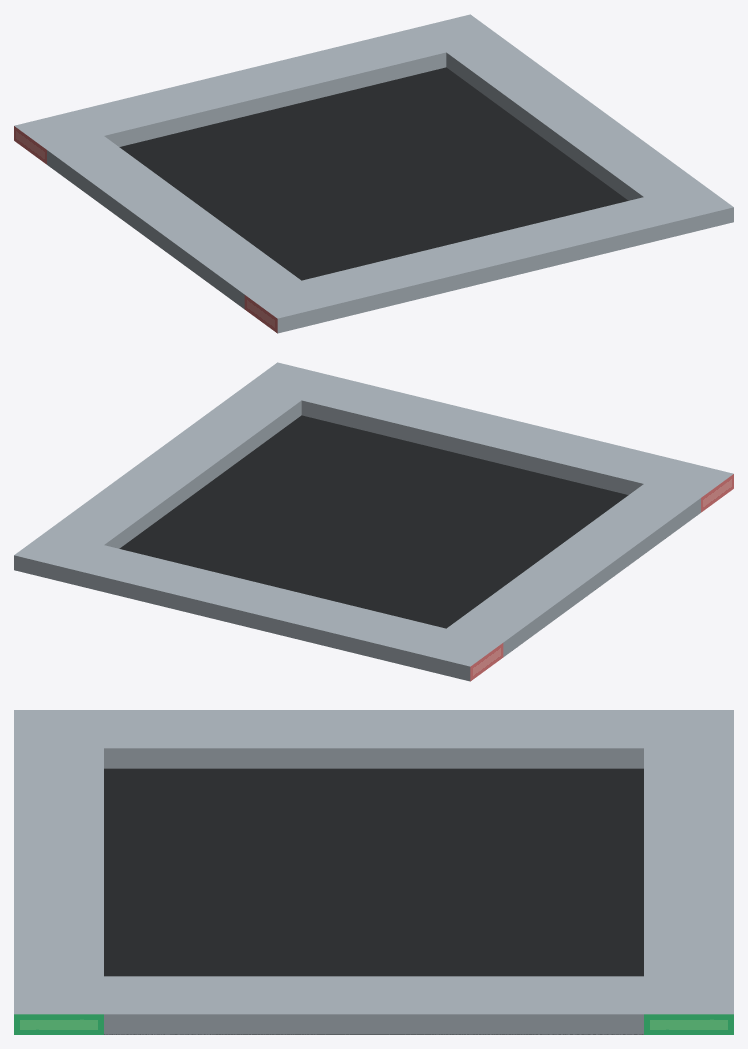
The model's file is Road-single.f2299542.gltf.
3 renders of one model, top to bottom at view 1: azimuth 30°, elevation 25°; view 2: azimuth 150°, elevation 25°; view 3: azimuth 270°, elevation 25°, orthographic. The views are drawn at different scales.
Visible parts, largest first — view 1: Road, Sidewalk South, Sidewalk North, Sidewalk Left, Sidewalk Right; view 2: Road, Sidewalk North, Sidewalk South, Sidewalk Left, Sidewalk Right; view 3: Road, Sidewalk Right, Sidewalk Left, Sidewalk South, Sidewalk North.
Boxes of the visible parts, x1,y1,x2,y2 form: Road: (119, 67, 628, 280); Sidewalk South: (244, 183, 733, 333); Sidewalk North: (14, 14, 502, 164); Sidewalk Left: (47, 136, 300, 308); Sidewalk Right: (446, 38, 700, 200); Road: (119, 415, 628, 628); Sidewalk North: (14, 531, 503, 681); Sidewalk South: (245, 362, 733, 512); Sidewalk Left: (447, 484, 700, 657); Sidewalk Right: (47, 386, 301, 548); Road: (104, 768, 643, 1034); Sidewalk Right: (104, 976, 643, 1034); Sidewalk Left: (104, 710, 643, 768); Sidewalk South: (14, 710, 103, 1034); Sidewalk North: (644, 710, 733, 1034).
Bounding box in the file's own units: 2 × 0.0625 × 2.
Materials: 1 (1 with a texture image).
